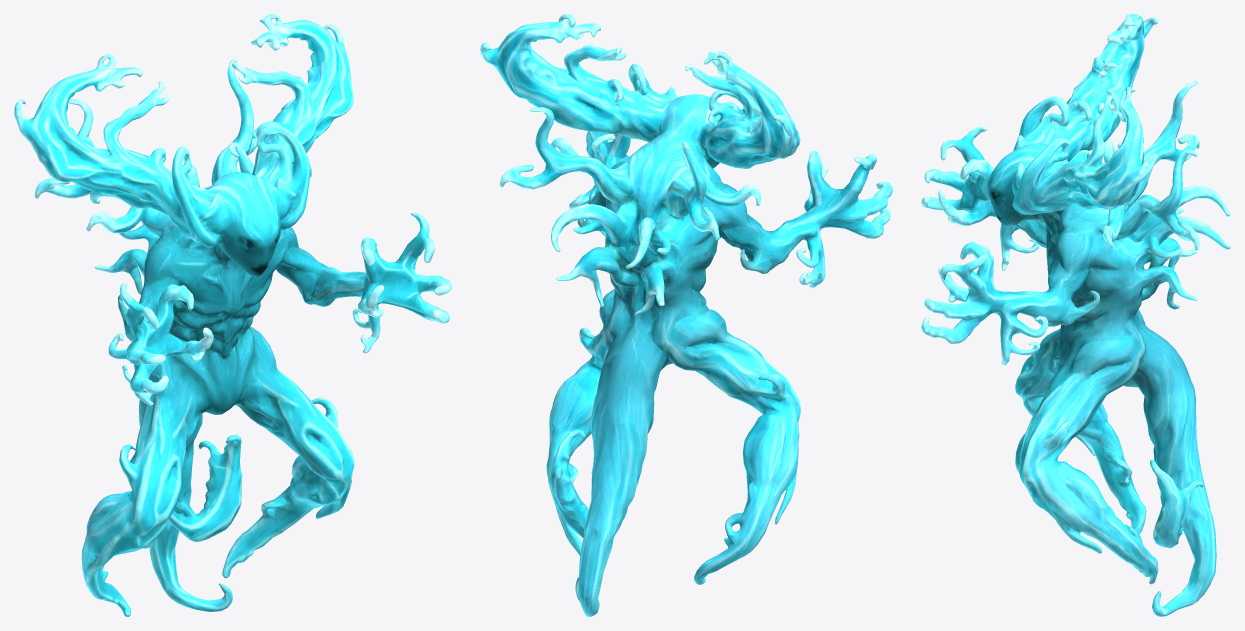
Rendered from Meshy_AI_water_shade_enemy_0504063212_texture.fbx.
3 renders of one model, left to right at view 1: azimuth 30°, elevation 25°; view 2: azimuth 150°, elevation 25°; view 3: azimuth 270°, elevation 25°, orthographic. The views are drawn at different scales.
Parts seen in each view (by area): view 1: Mesh_0; view 2: Mesh_0; view 3: Mesh_0.
Part boxes in pixels (bbox=[...]): Mesh_0: bbox=[14, 14, 451, 616]; Mesh_0: bbox=[480, 14, 892, 616]; Mesh_0: bbox=[921, 14, 1230, 616].
Size of the model in its own units: 108 by 191 by 98.41.
1 material, 1 textured.
